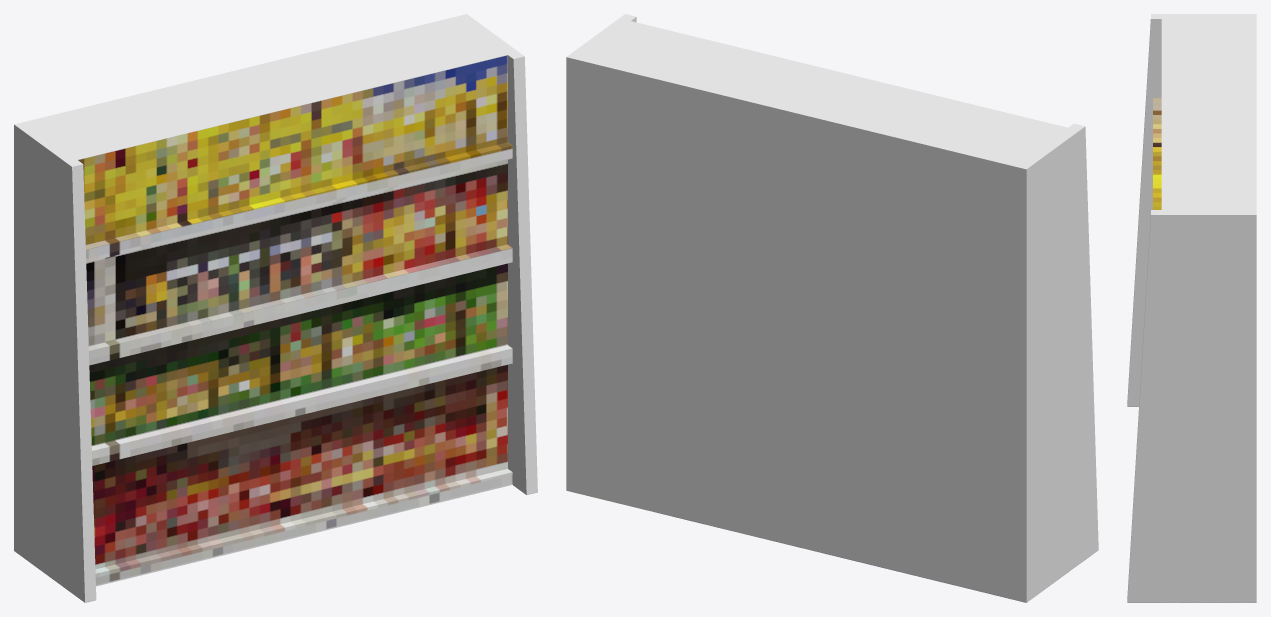
File: Estante_Comida_02.fbx
3 renders of one model, left to right at view 1: azimuth 30°, elevation 25°; view 2: azimuth 150°, elevation 25°; view 3: azimuth 270°, elevation 25°, orthographic. The views are drawn at different scales.
Parts seen in each view (by area): view 1: Estante_Comida_02; view 2: Estante_Comida_02; view 3: Estante_Comida_02.
Part boxes in pixels (bbox=[...]): Estante_Comida_02: bbox=[14, 14, 537, 602]; Estante_Comida_02: bbox=[566, 14, 1098, 602]; Estante_Comida_02: bbox=[1127, 14, 1256, 602].
Size of the model in its own units: 200 by 180 by 54.36.
Materials: 1 (1 with a texture image).
